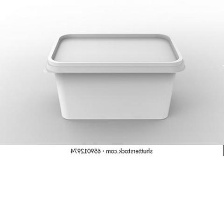plastic_box: (39, 24, 193, 127)
